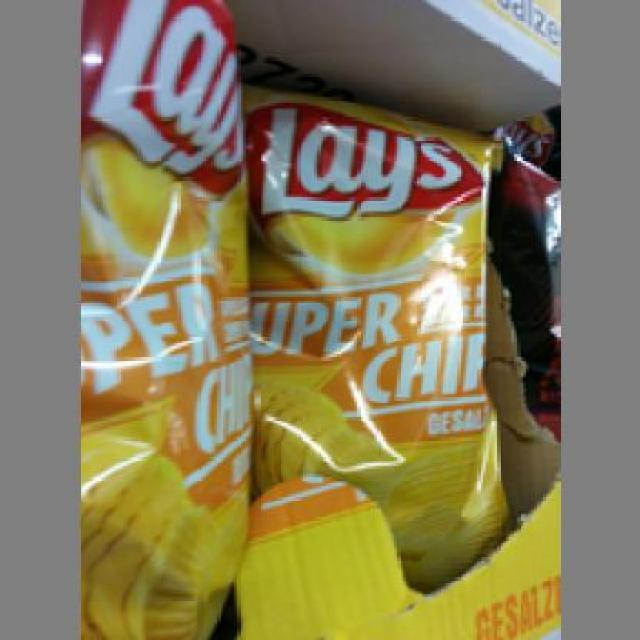Chips: (240, 77, 520, 586), (73, 0, 246, 635)
